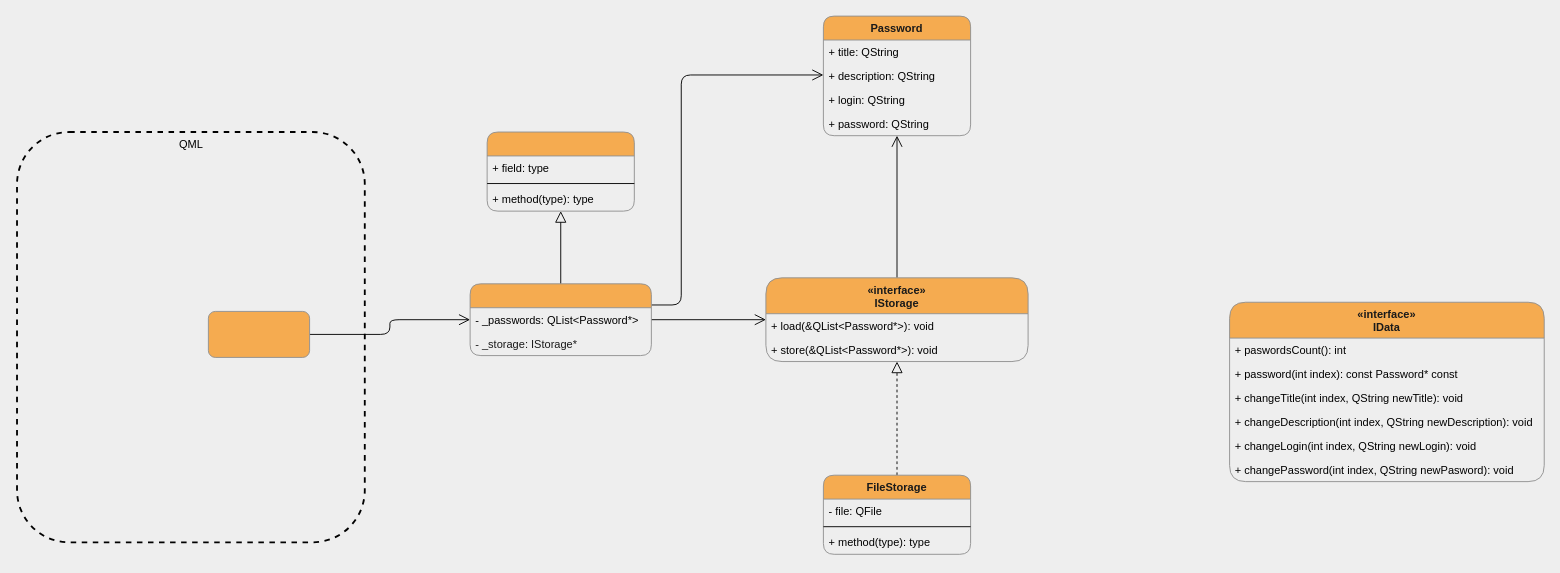
The diagram is 1560 pixels wide and 573 high, and some of its shapes have lost their labels. The box of each missing label's shape, as (x1, y1, x2, y2) in pixels:
Model: (469, 283, 651, 356)
ModelView: (207, 310, 310, 357)
QAbstractListModel: (486, 131, 634, 211)
